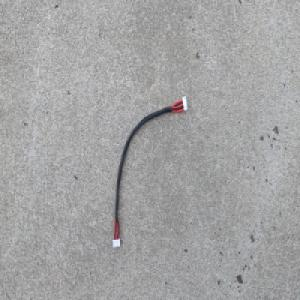Wire: (110, 94, 189, 251)
